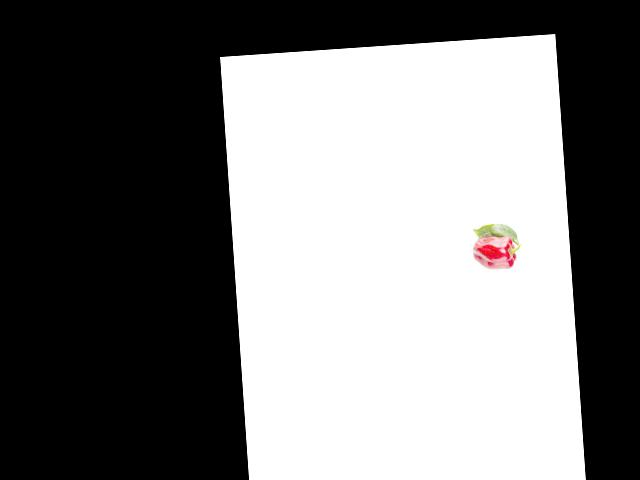bell_pepper: (470, 232, 521, 275)
